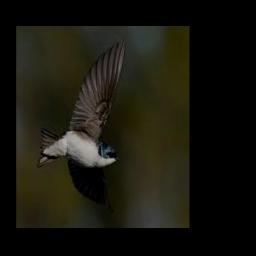Swallow: (38, 39, 127, 212)
